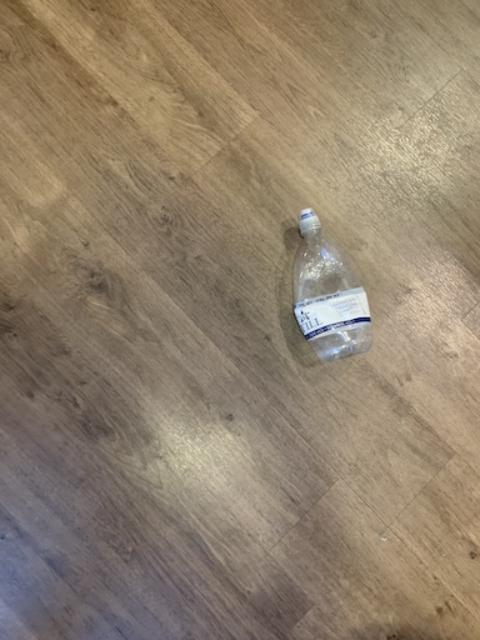plastic: (291, 206, 370, 358)
